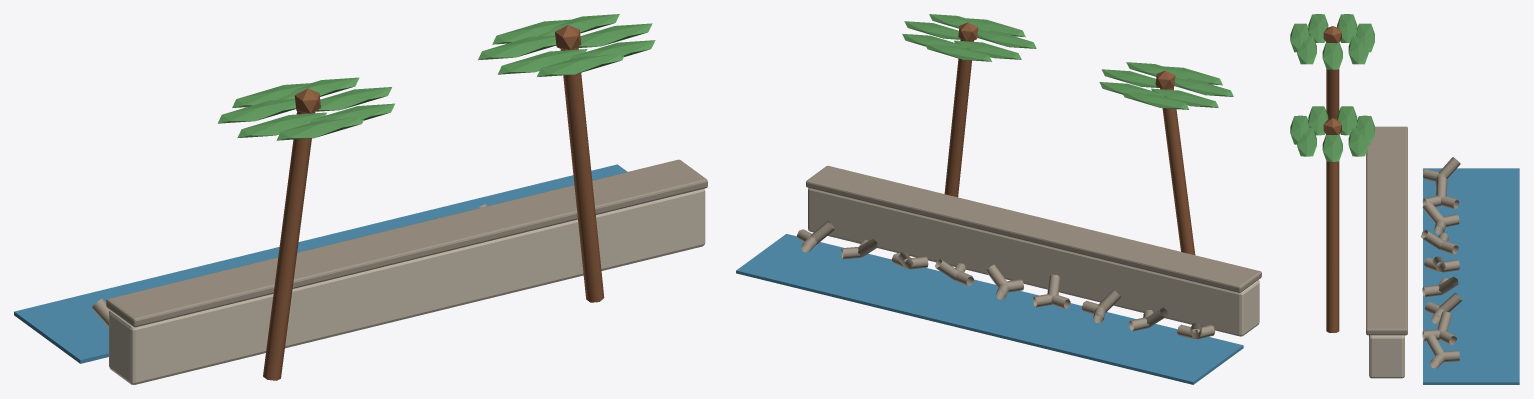
Rendered from sea_wall.glb.
3 views of the same model, side by side, from view 1: azimuth 30°, elevation 25°; view 2: azimuth 150°, elevation 25°; view 3: azimuth 270°, elevation 25° (orthographic). The views are drawn at different scales.
Parts seen in each view (by area): view 1: sea_wall; view 2: sea_wall; view 3: sea_wall.
Boxes of the visible parts, x1,y1,x2,y2 form: sea_wall: (14,14,707,384); sea_wall: (736,14,1261,384); sea_wall: (1290,14,1519,384).
Size of the model in its own units: 8.4 by 3.74 by 3.8.
